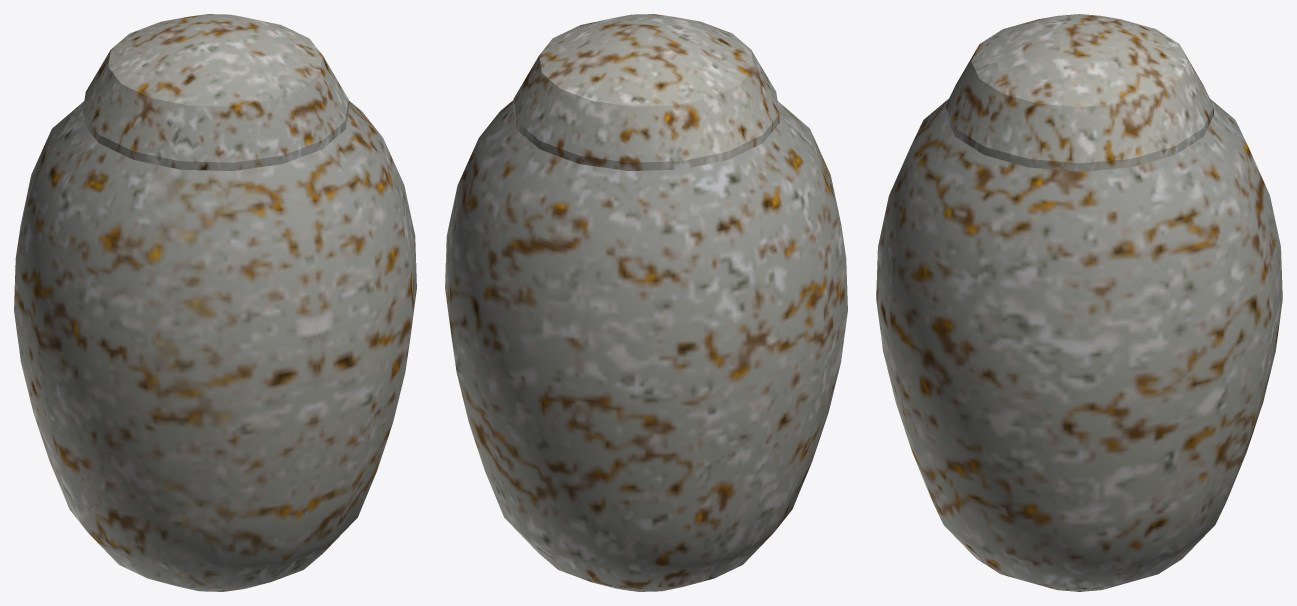
Rendered from Vase_Marble_UrnShape.fbx.
3 renders of one model, left to right at view 1: azimuth 30°, elevation 25°; view 2: azimuth 150°, elevation 25°; view 3: azimuth 270°, elevation 25°, orthographic.
Visible parts, largest first — view 1: Vase_Marble_UrnShape; view 2: Vase_Marble_UrnShape; view 3: Vase_Marble_UrnShape.
Boxes of the visible parts, x1,y1,x2,y2 form: Vase_Marble_UrnShape: [14, 14, 416, 591]; Vase_Marble_UrnShape: [445, 14, 847, 591]; Vase_Marble_UrnShape: [876, 14, 1282, 591].
Size of the model in its own units: 26.1 by 38.19 by 26.1.
